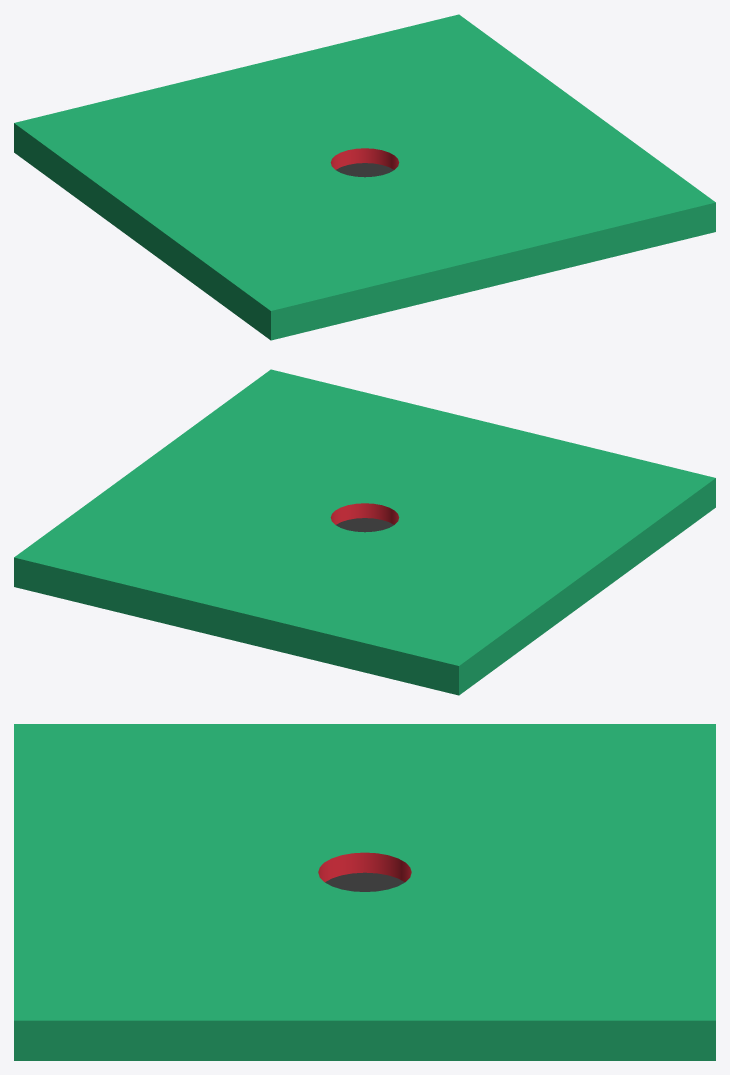
File: holeOpen.obj
3 renders of one model, top to bottom at view 1: azimuth 30°, elevation 25°; view 2: azimuth 150°, elevation 25°; view 3: azimuth 270°, elevation 25°, orthographic. The views are drawn at different scales.
Visible parts, largest first — view 1: holeOpen; view 2: holeOpen; view 3: holeOpen.
Boxes of the visible parts, box(x1,y1,x2,y2) form: holeOpen: box(14, 14, 715, 340); holeOpen: box(14, 369, 715, 695); holeOpen: box(14, 724, 715, 1060).
Size of the model in its own units: 0.9999 by 0.0633 by 0.9999.
